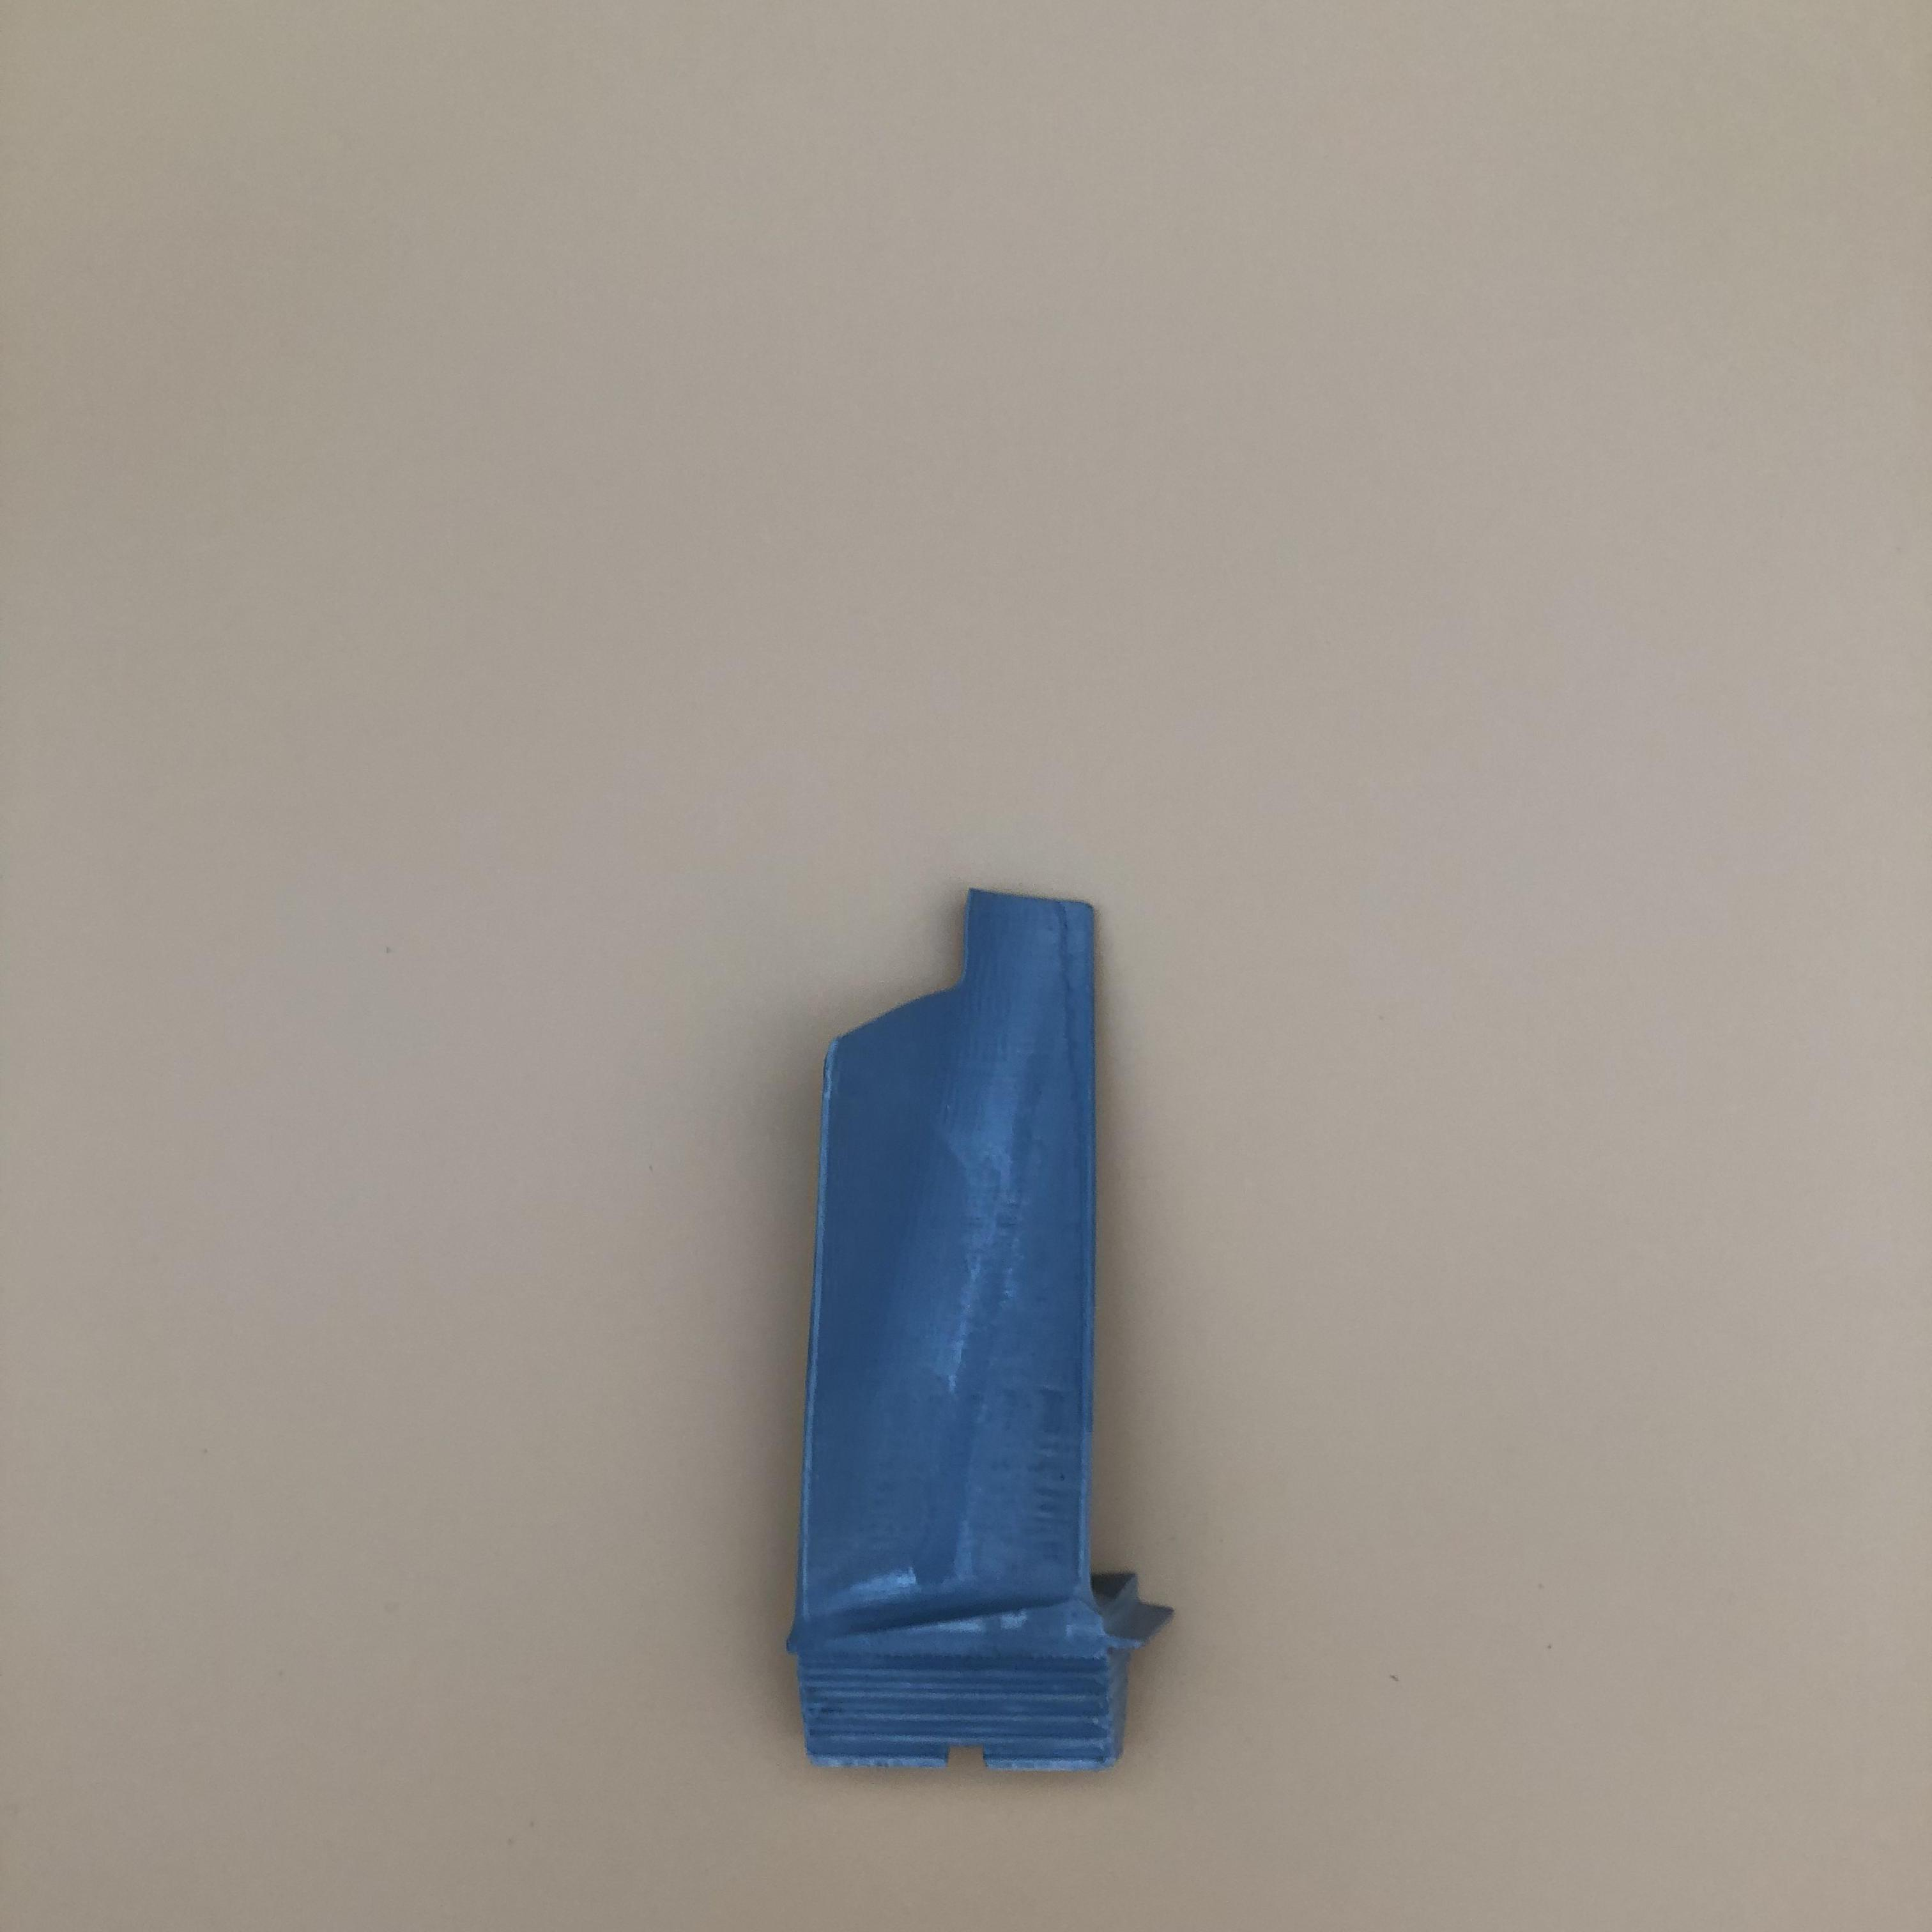fracture: (853, 902, 1035, 1042)
